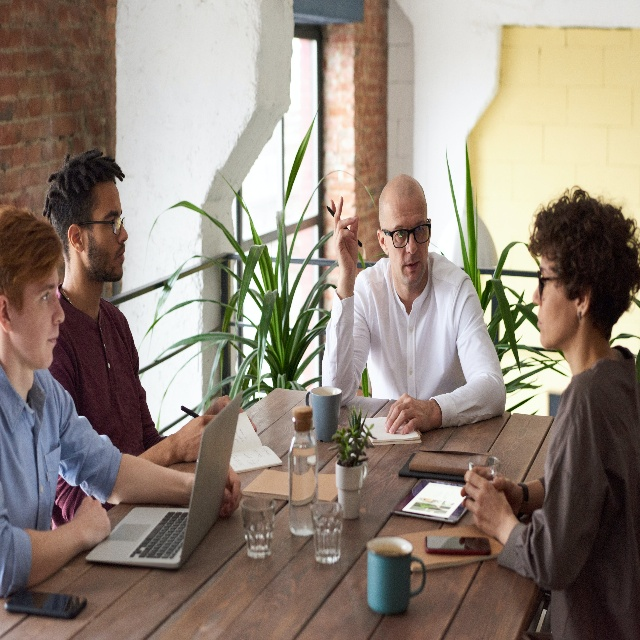Gafas: (381, 218, 431, 249), (77, 216, 126, 236), (537, 269, 559, 301)
Sin_guantes: (464, 468, 512, 540), (472, 465, 524, 520), (330, 196, 359, 279), (384, 392, 436, 435), (175, 412, 217, 463), (74, 495, 111, 551), (205, 394, 257, 432), (220, 465, 243, 518)
